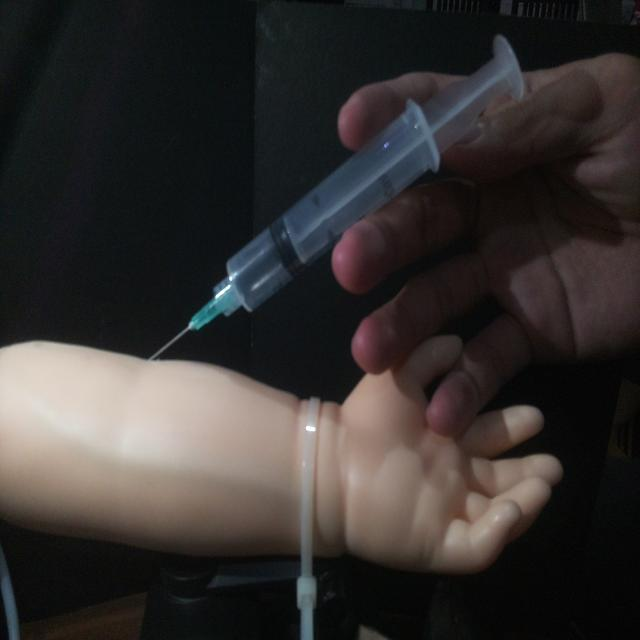25deg: (143, 31, 527, 364)
